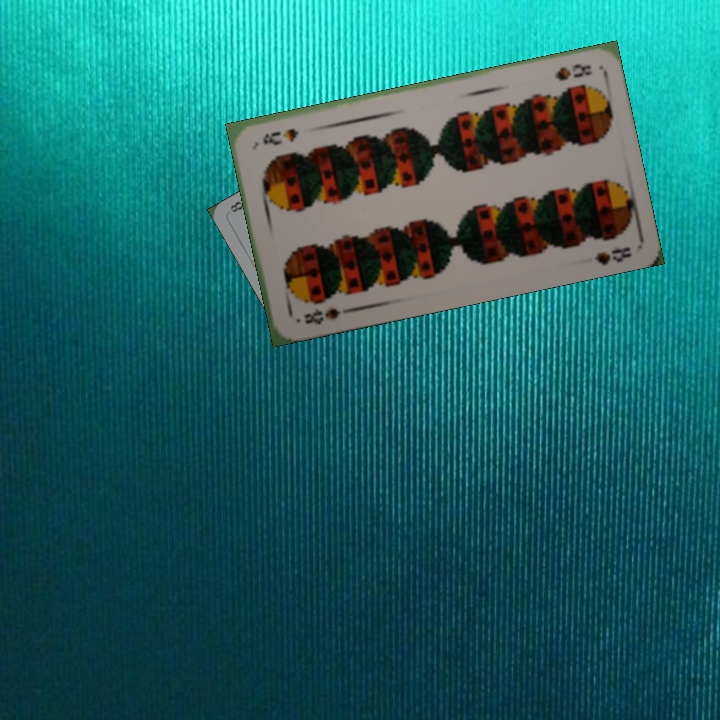S8: (300, 304, 351, 327), (550, 59, 595, 84)
